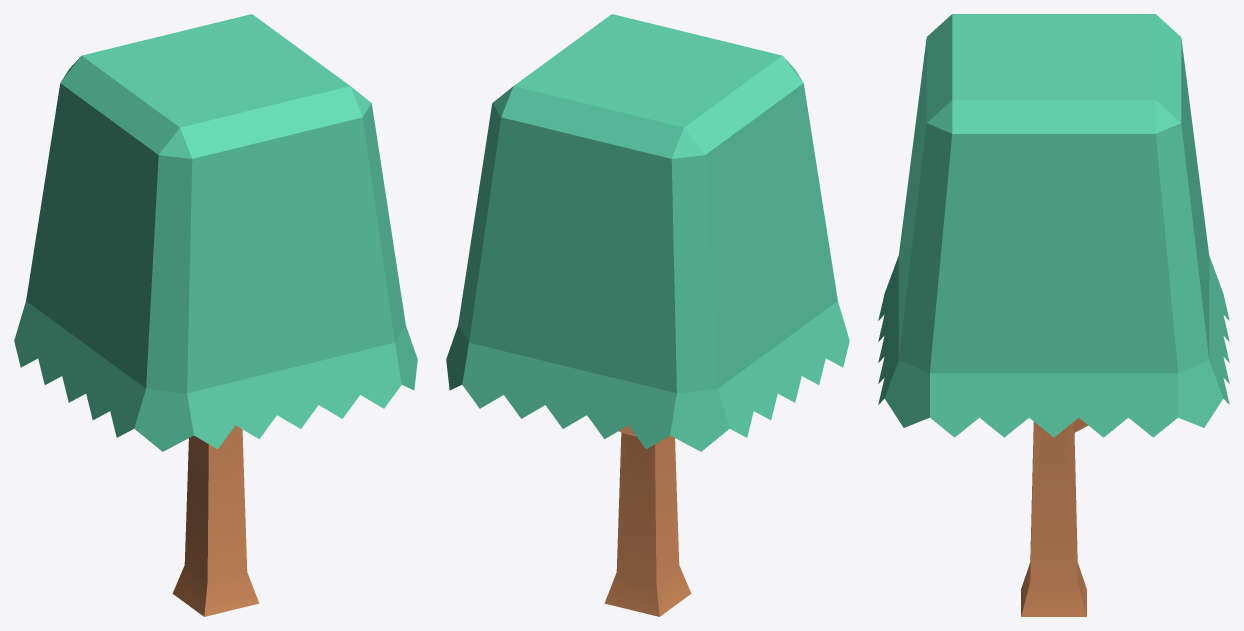
The model's file is tree.dae.
The picture shows the model from 3 angles, left to right: view 1: azimuth 30°, elevation 25°; view 2: azimuth 150°, elevation 25°; view 3: azimuth 270°, elevation 25°; orthographic projection. The views are drawn at different scales.
Visible parts, largest first — view 1: tree; view 2: tree; view 3: tree.
Part boxes in pixels (<box>): tree: <box>14,14,417,616</box>; tree: <box>446,14,849,616</box>; tree: <box>878,14,1229,616</box>.
Size of the model in its own units: 1.13 by 1.94 by 1.13.
